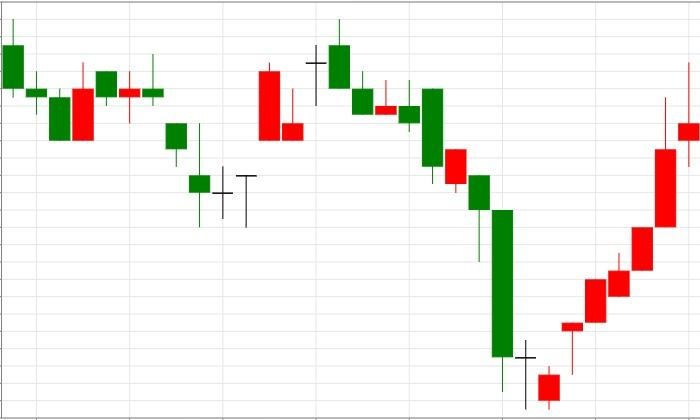bullish_engulfing_rise: (2, 18, 94, 141)
hammer_rise: (306, 18, 490, 262)
